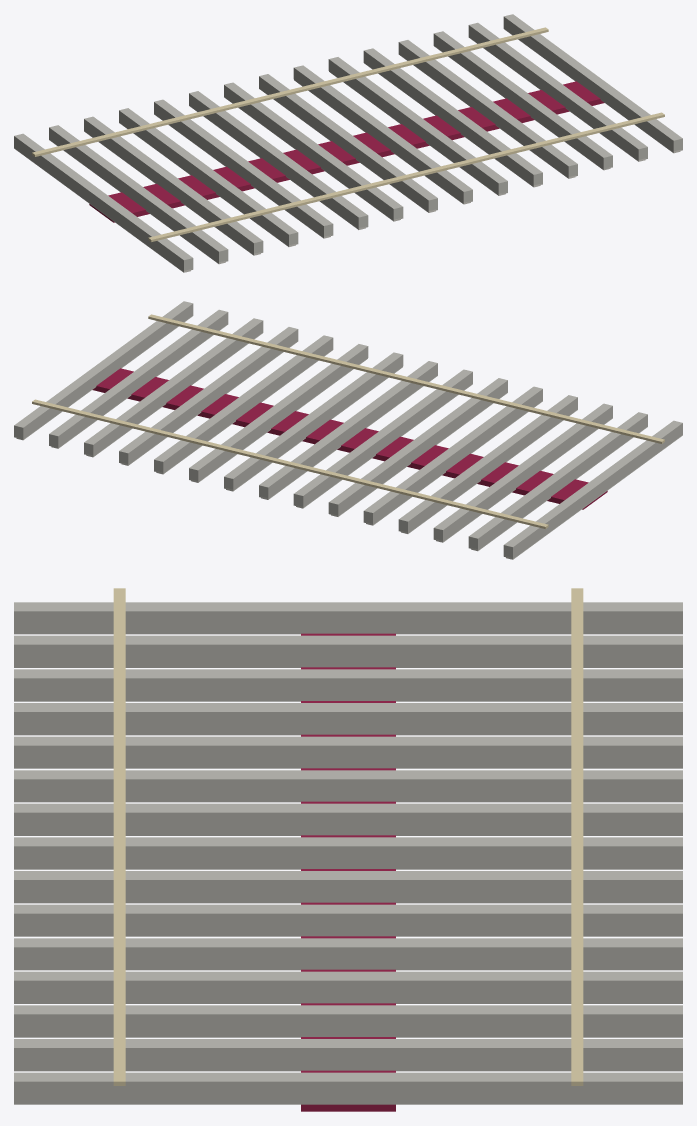
The model's file is mall-ceiling.glb.
3 renders of one model, top to bottom at view 1: azimuth 30°, elevation 25°; view 2: azimuth 150°, elevation 25°; view 3: azimuth 270°, elevation 25°, orthographic. The views are drawn at different scales.
Visible parts, largest first — view 1: Surface, Diffuser; view 2: Surface, Diffuser; view 3: Surface, Diffuser.
Part boxes in pixels (x1=…): Surface: x1=14, y1=14, x2=682, y2=272; Diffuser: x1=32, y1=27, x2=664, y2=241; Surface: x1=14, y1=301, x2=682, y2=559; Diffuser: x1=32, y1=314, x2=664, y2=528; Surface: x1=14, y1=602, x2=682, y2=1104; Diffuser: x1=113, y1=588, x2=583, y2=1111.
Bounding box in the file's own units: 6.02 × 0.2515 × 3.45.
